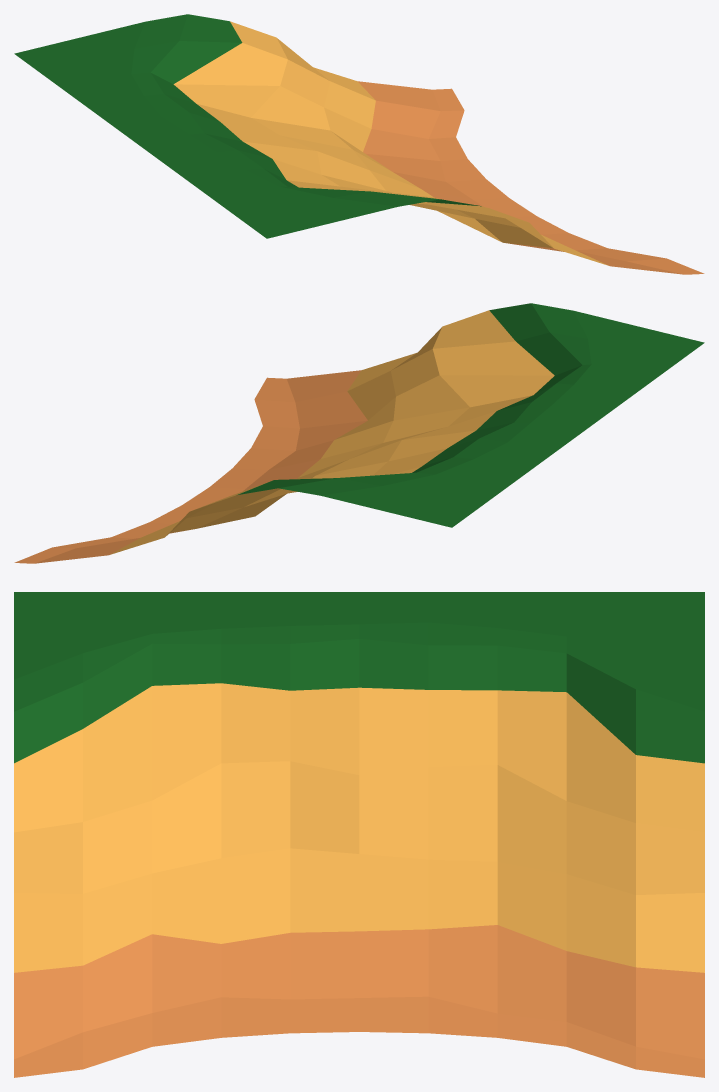
File: Playa_Concavo.fbx
The picture shows the model from 3 angles, top to bottom: view 1: azimuth 30°, elevation 25°; view 2: azimuth 150°, elevation 25°; view 3: azimuth 270°, elevation 25°; orthographic projection. The views are drawn at different scales.
Parts seen in each view (by area): view 1: Playa_Concavo; view 2: Playa_Concavo; view 3: Playa_Concavo.
Boxes of the visible parts, <box> form: Playa_Concavo: <box>14,14,704,274</box>; Playa_Concavo: <box>14,303,704,563</box>; Playa_Concavo: <box>14,592,704,1077</box>.
Bounding box in the file's own units: 2000 × 619 × 2000.
